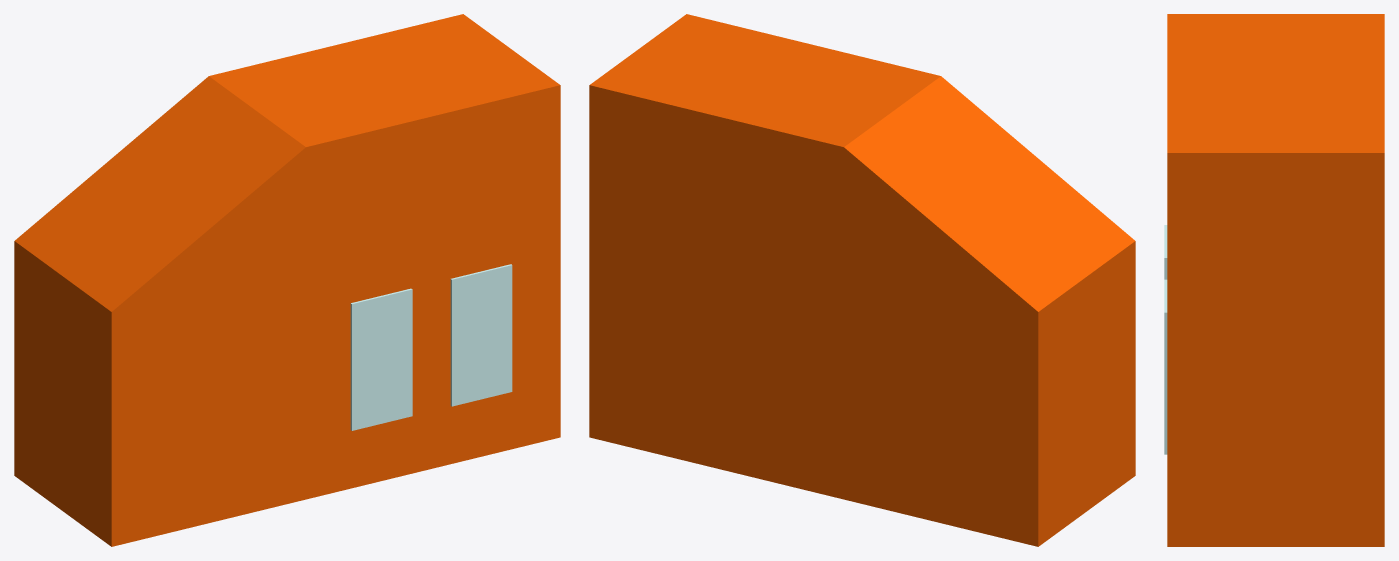
3 renders of one model, left to right at view 1: azimuth 30°, elevation 25°; view 2: azimuth 150°, elevation 25°; view 3: azimuth 270°, elevation 25°, orthographic. The views are drawn at different scales.
Visible parts, largest first — view 1: Mesh_0.004; view 2: Mesh_0.004; view 3: Mesh_0.004.
Part boxes in pixels (x1,y1,x2,y2): Mesh_0.004: (14, 14, 560, 546); Mesh_0.004: (589, 14, 1135, 546); Mesh_0.004: (1164, 14, 1384, 546).
Size of the model in its own units: 4 by 3 by 1.52.
